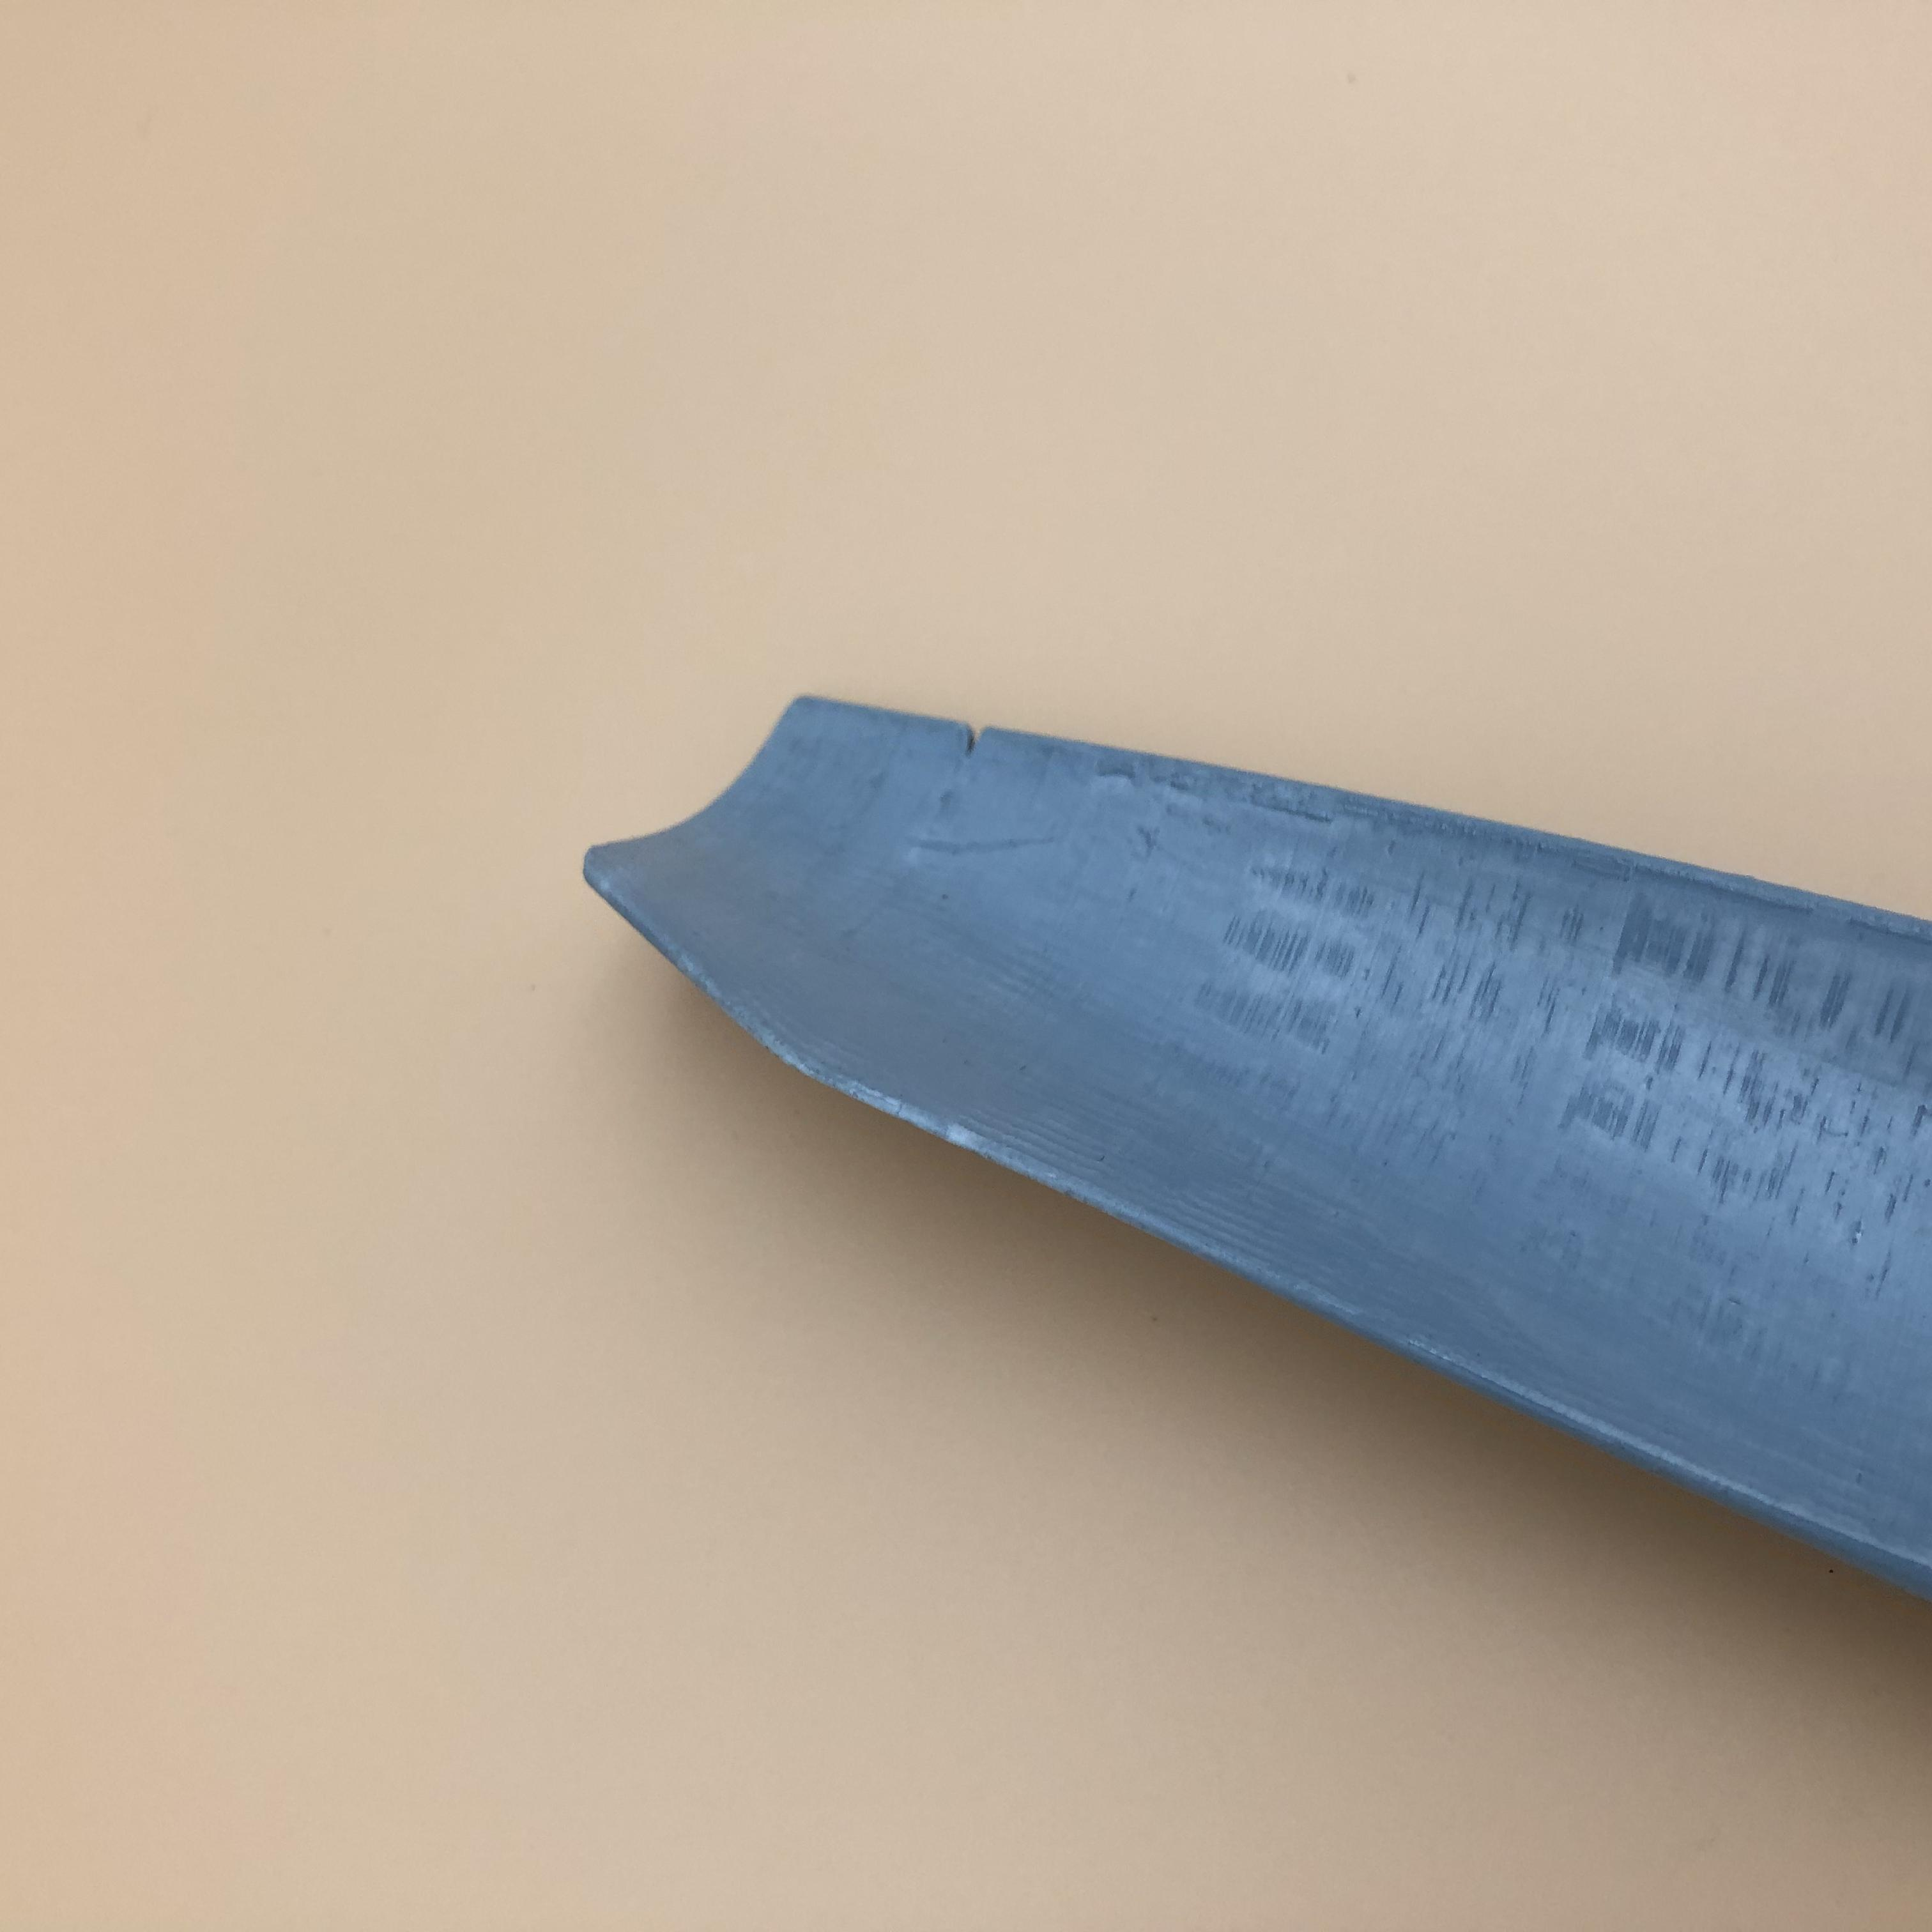groove: (950, 725, 1008, 754)
